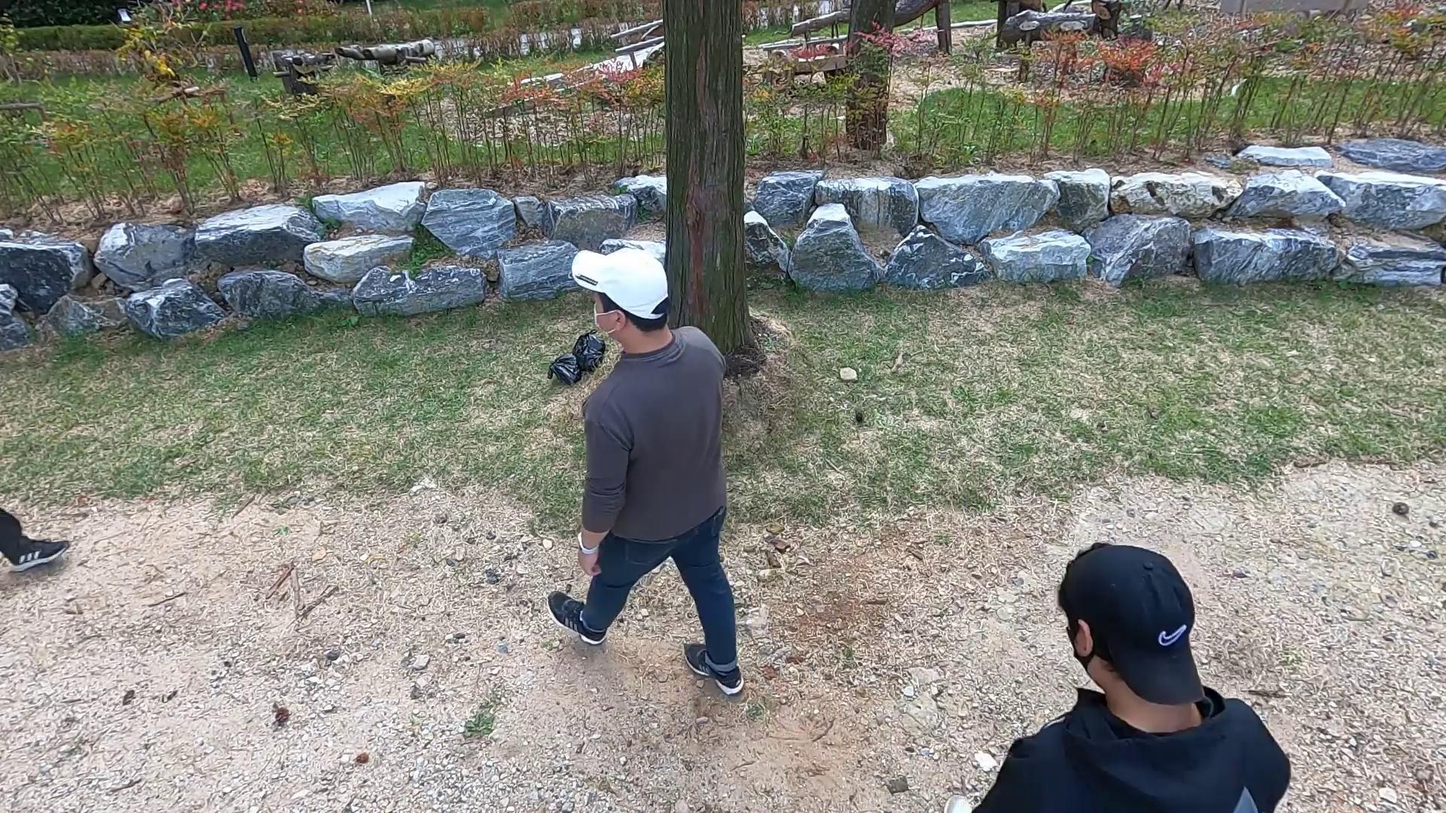person: (535, 245, 762, 699), (939, 535, 1296, 813)
trash: (545, 345, 584, 392), (570, 328, 607, 377)
